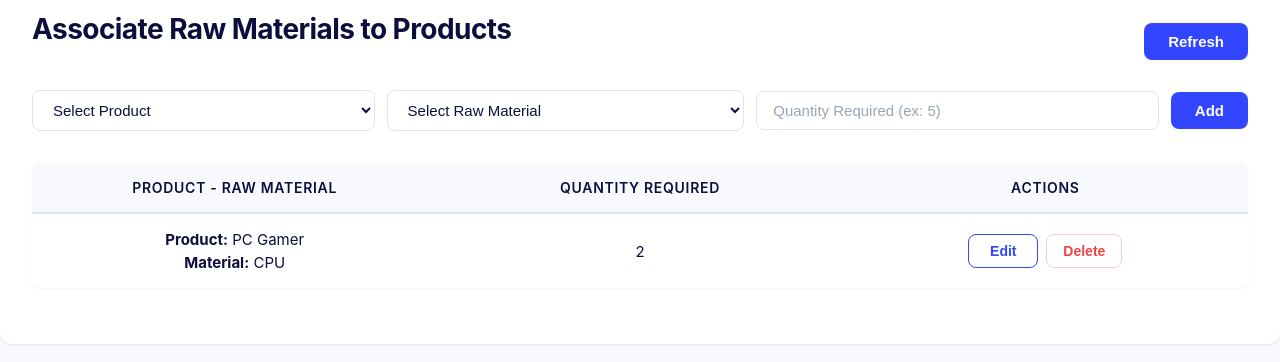
Scenario: ProductRawMaterials Component - Suite Completa › Editar Associação › preenche formulário ao clicar em Edit
Click the button "Edit": (1003, 251) 968,234 -> 1038,268
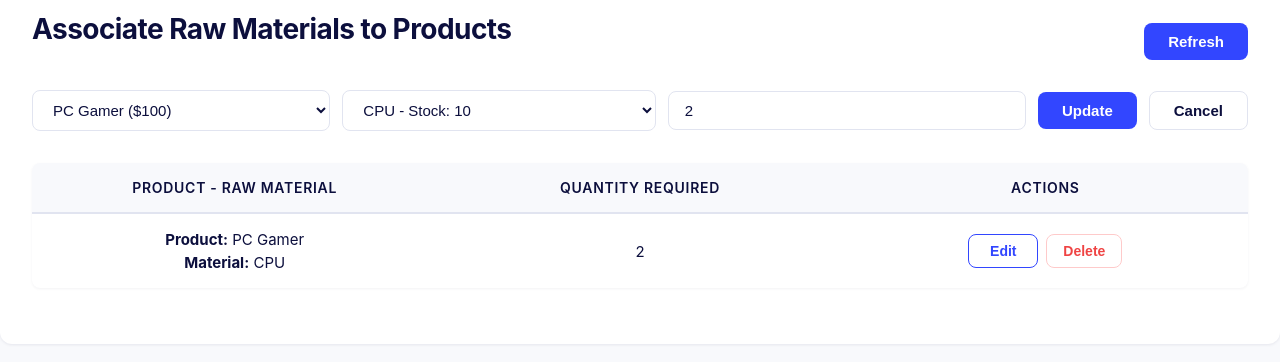
Now the 1st dropdown shows "PC Gamer ($100)", box 32,90 -> 330,131
Now the 2nd dropdown shows "CPU - Stock: 10", box 342,90 -> 656,131
Now the number field with placeholder "Quantity Required (ex: 5)" holds "2", box 668,91 -> 1026,130
